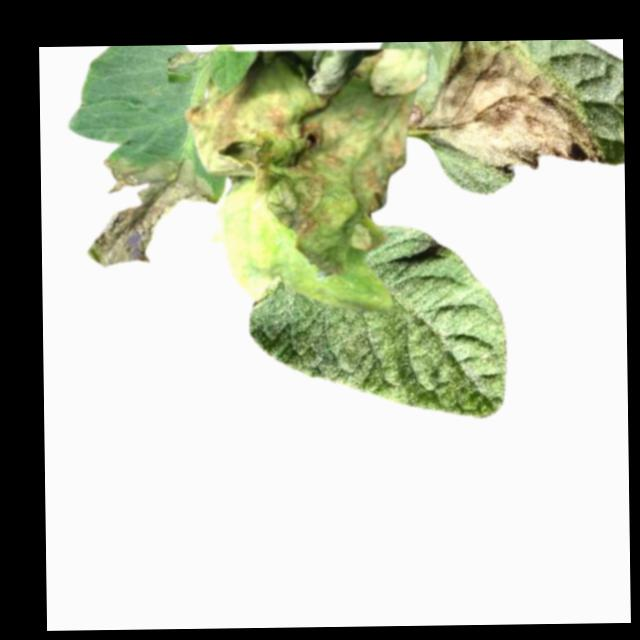Late_blight: (168, 46, 433, 280), (428, 40, 606, 175), (83, 156, 215, 272)
healthy: (246, 224, 509, 421)
